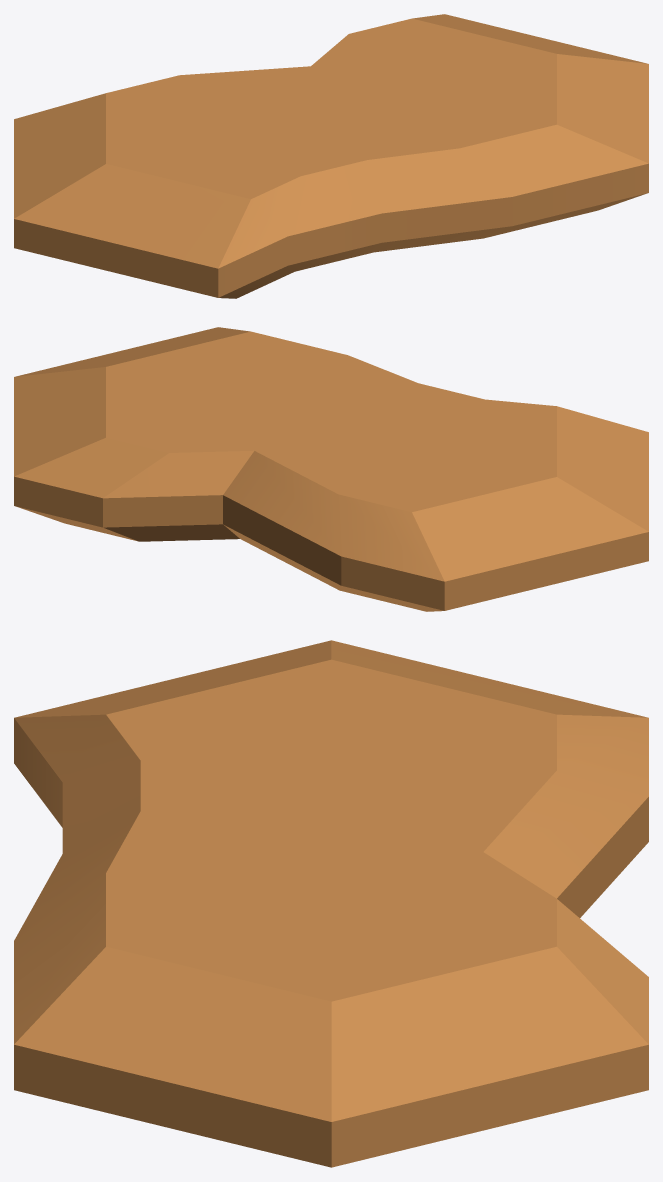
File: Rock_Large_Dirt_04.fbx
3 renders of one model, top to bottom at view 1: azimuth 30°, elevation 25°; view 2: azimuth 150°, elevation 25°; view 3: azimuth 270°, elevation 25°, orthographic. The views are drawn at different scales.
Visible parts, largest first — view 1: Rock_Large_Dirt_04; view 2: Rock_Large_Dirt_04; view 3: Rock_Large_Dirt_04.
Boxes of the visible parts, x1,y1,x2,y2 form: Rock_Large_Dirt_04: (14,14,648,298); Rock_Large_Dirt_04: (14,327,648,611); Rock_Large_Dirt_04: (14,640,648,1167).
Size of the model in its own units: 234 by 29.19 by 130.
